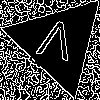V: (33, 18, 78, 71)
